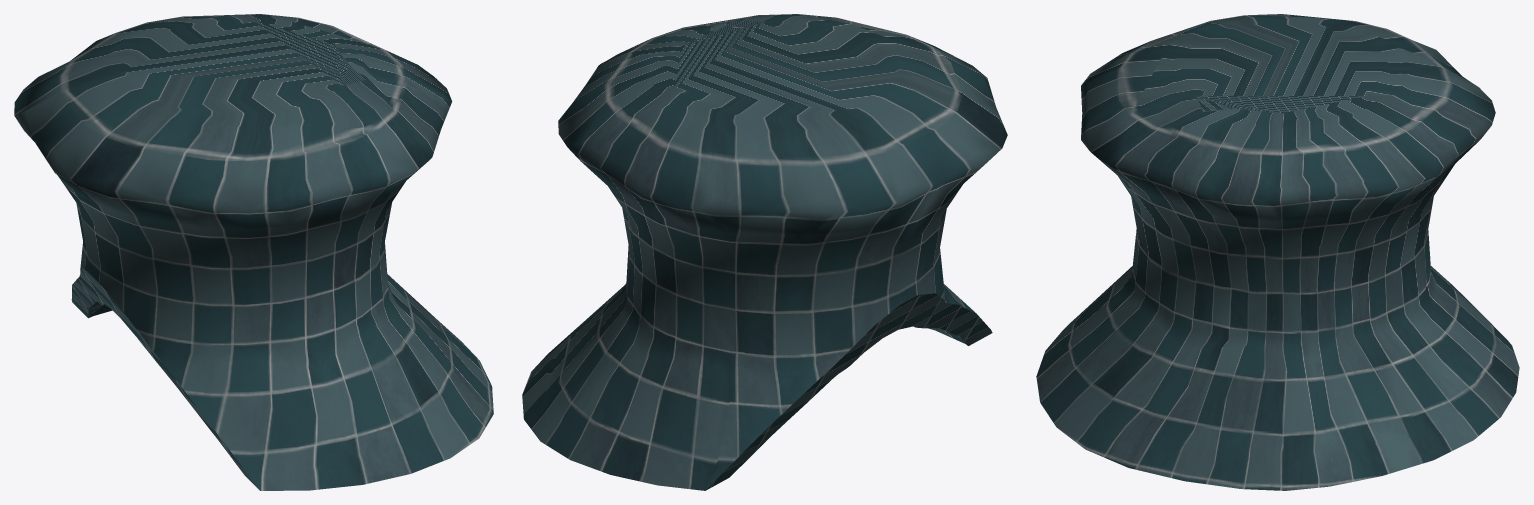
The picture shows the model from 3 angles, left to right: view 1: azimuth 30°, elevation 25°; view 2: azimuth 150°, elevation 25°; view 3: azimuth 270°, elevation 25°; orthographic projection. The views are drawn at different scales.
Parts seen in each view (by area): view 1: Cylinder_cell.002; view 2: Cylinder_cell.002; view 3: Cylinder_cell.002.
Part boxes in pixels (x1=…): Cylinder_cell.002: x1=14, y1=14, x2=493, y2=490; Cylinder_cell.002: x1=522, y1=14, x2=1007, y2=490; Cylinder_cell.002: x1=1036, y1=14, x2=1519, y2=490.
Size of the model in its own units: 0.7058 by 0.5329 by 0.7347.
1 material, 1 textured.
